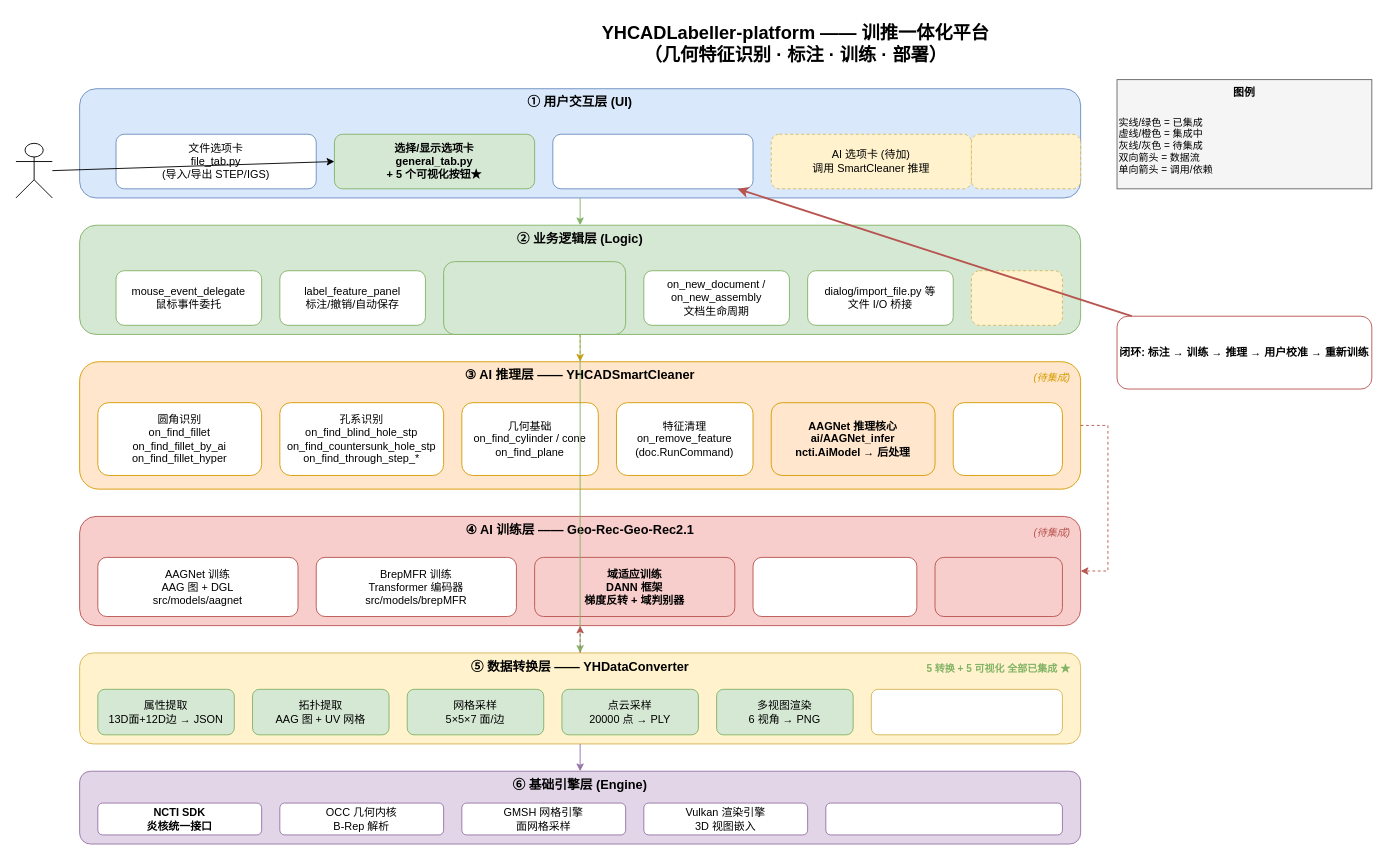
Some shapes in this 1388 by 860 pixel diagram are drawn without their labels. The centre of each missing label's shape, as x and y in pixels:
on_visualize.py ★ 5 个可视化 (属性/拓扑/网格/点云/多视图): point 534,297
PyTorch + DGL AI 训练/推理: point 943,818
train_main.py inference: infer_main.py: point 998,586
几何工具 sampler.py / b_face_classify.py reindex.py (IndexManager): point 1007,438
标注选项卡 label_tab.py 特征标注/批量标注/撤销: point 652,161
用户: point 33,170
训练数据集导出 seg / inst / bottom: point 966,711
训练编排 (待加) 提交训练任务/查看日志: point 1016,297
训练选项卡 (待加) 调用 Geo-Rec 训练任务: point 1026,161
配置驱动 configs/configs.yaml model_name / train_mode: point 834,586
